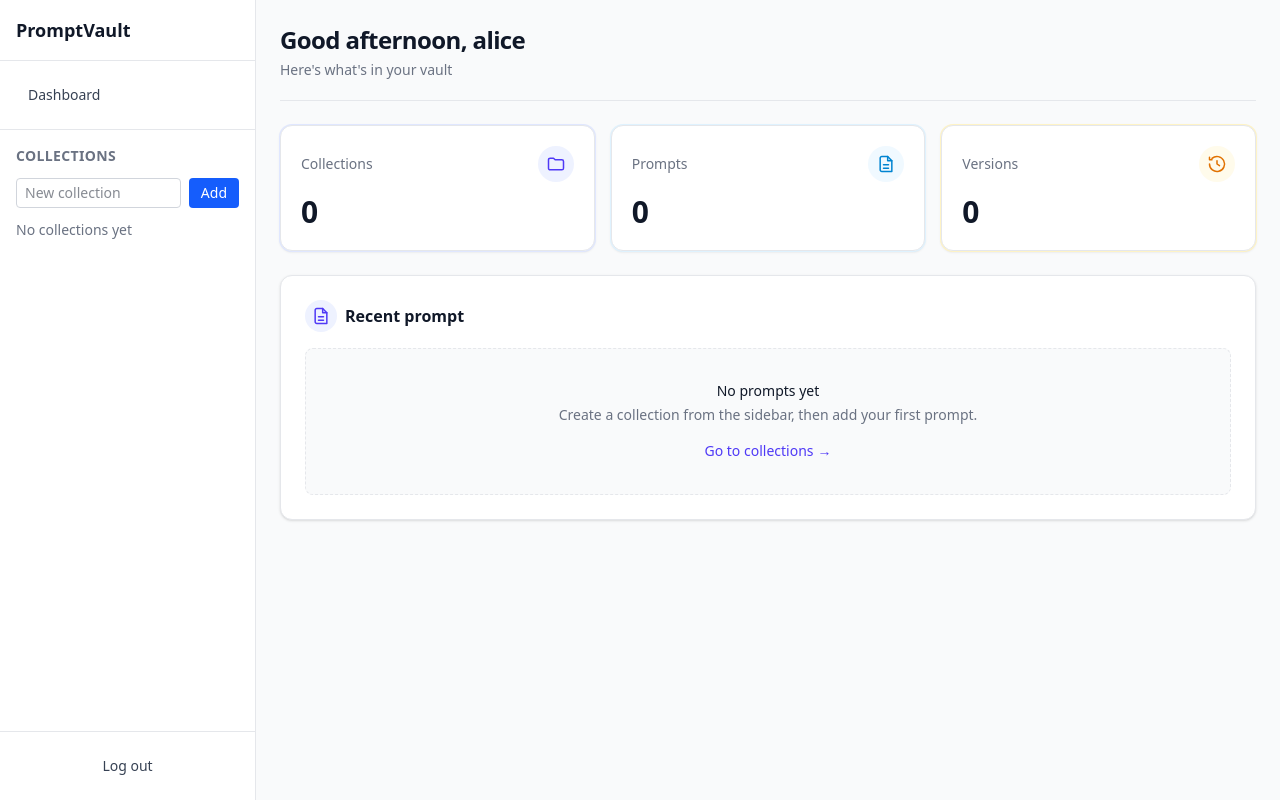
Test: routing — authenticated › refreshes the dashboard counts when a collection is created from the sidebar
This screenshot has width=1280, height=800.
Check: the text "Here's what's in your vault" is shown, box [280,60,452,79]
Check: the 1st text "0" is shown, box [301,191,317,232]
Create a collection via the sidebar's inline form without leaving the page.
In the field named "new collection name": (98, 193) [16,178,181,208], type "Research"
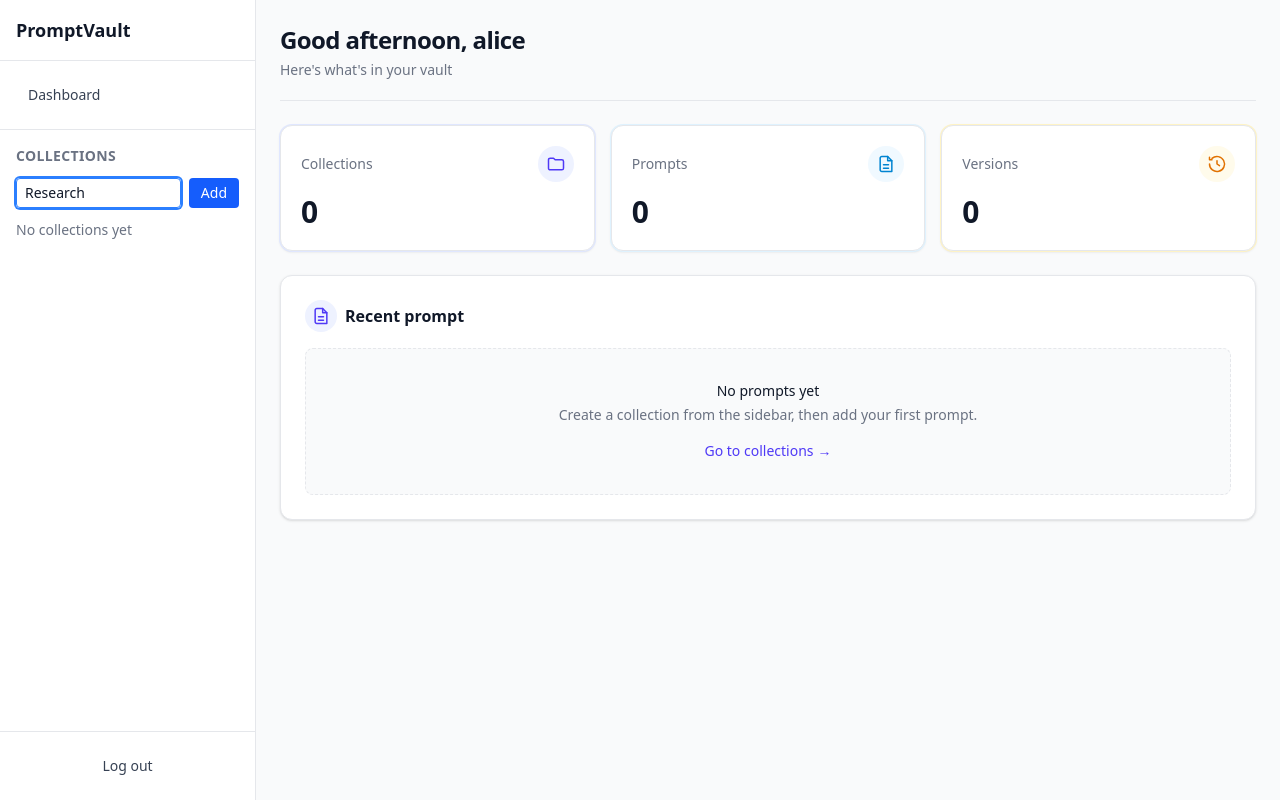
Click the button "Add": (214, 193) [189,178,239,208]
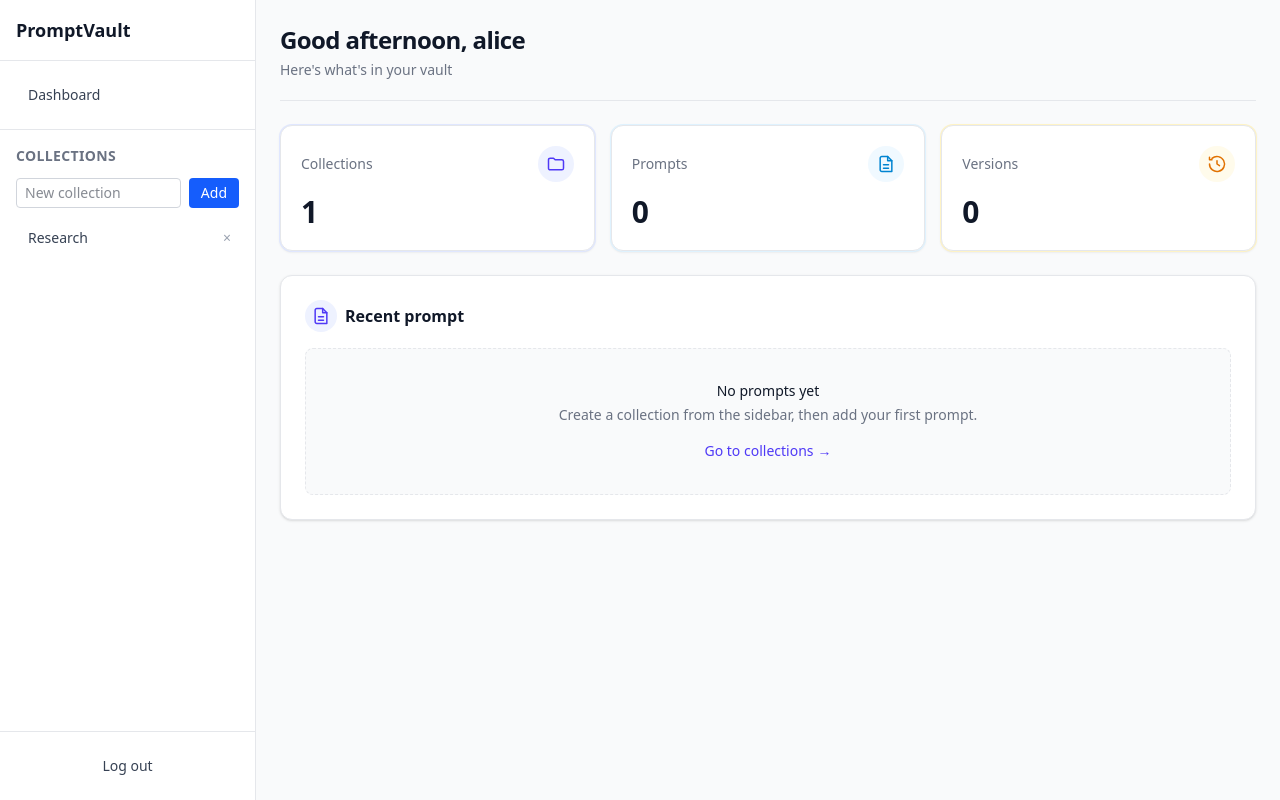
Check: the text "1" is shown, box [301,191,317,232]
